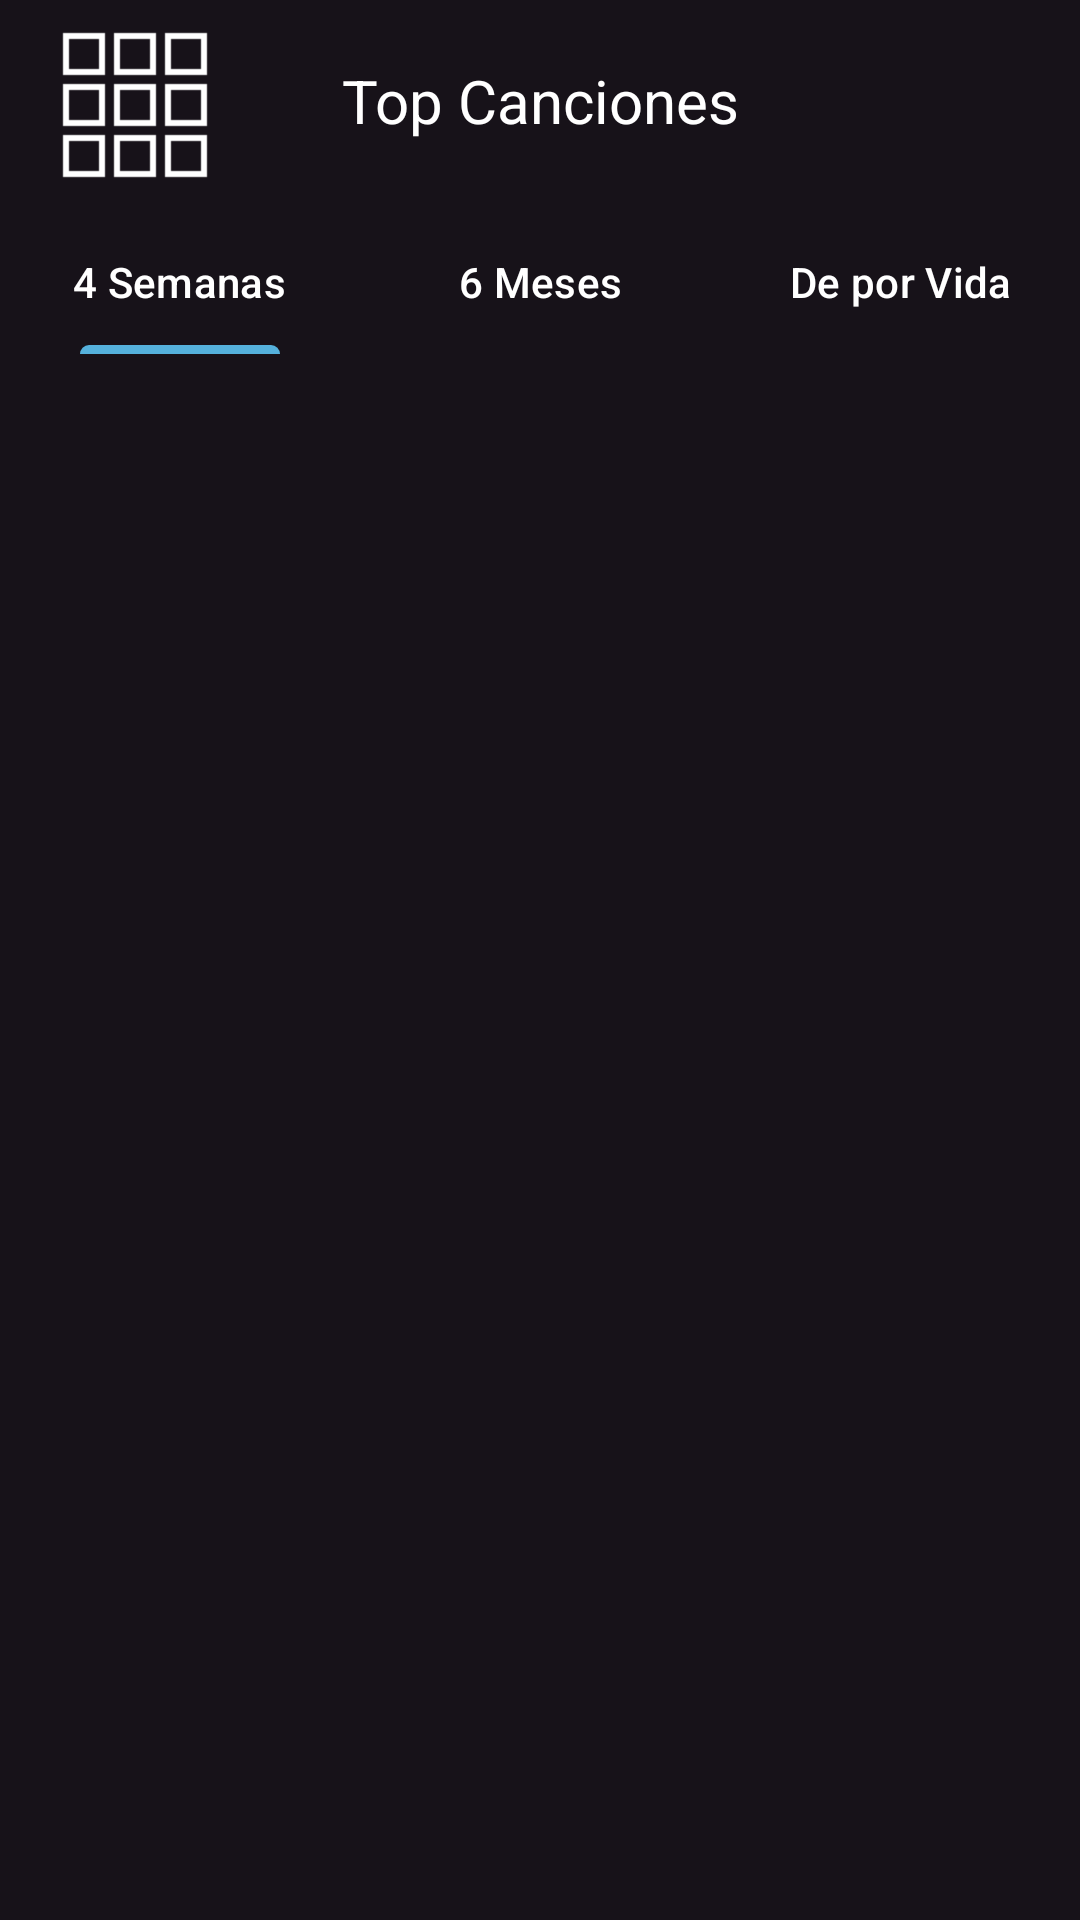

Icon bounding boxes for this 1080 × 1920 phone screenshot, format (x1, y1, x2, y2):
grid: (62, 32, 208, 178)
